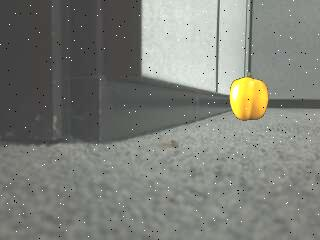Capsicum: (228, 74, 271, 122)
